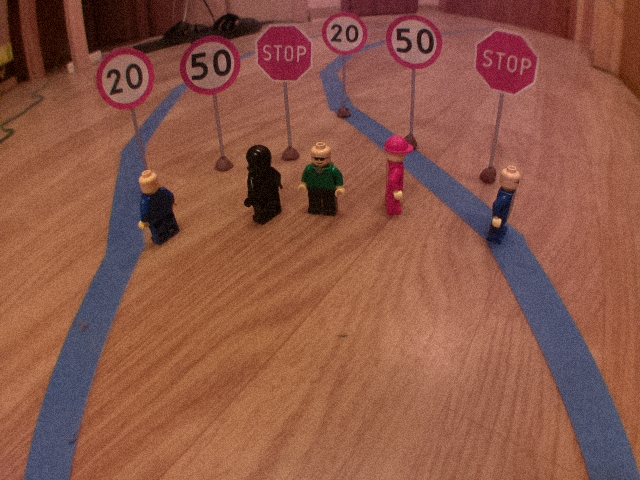LEGO_person: (294, 141, 350, 221), (135, 166, 185, 244), (484, 163, 527, 243), (377, 134, 416, 217)
ogr_20: (91, 45, 157, 113), (320, 10, 370, 58)
ogr_50: (177, 33, 244, 97), (383, 13, 445, 71)
stop: (471, 27, 545, 99), (253, 22, 315, 85)
